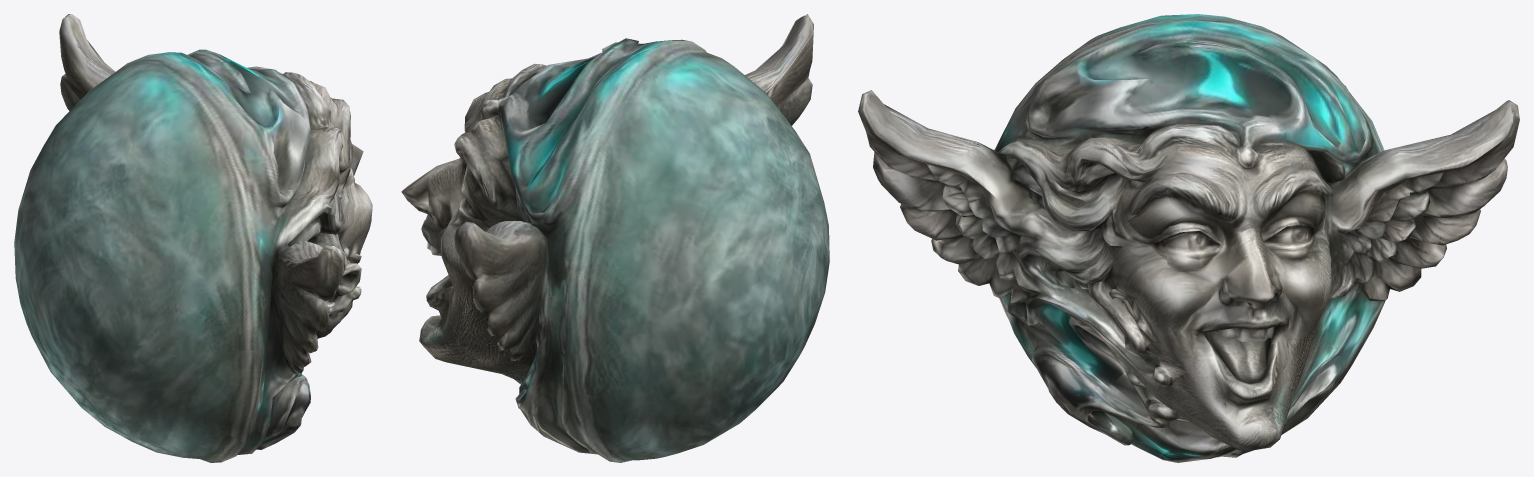
Rendered from Q-mercury.glb.
3 views of the same model, side by side, from view 1: azimuth 30°, elevation 25°; view 2: azimuth 150°, elevation 25°; view 3: azimuth 270°, elevation 25° (orthographic). The views are drawn at different scales.
Visible parts, largest first — view 1: tripo_node_17ca79b0-91c9-4856-be13-b9247469595f; view 2: tripo_node_17ca79b0-91c9-4856-be13-b9247469595f; view 3: tripo_node_17ca79b0-91c9-4856-be13-b9247469595f.
Part boxes in pixels (x1,y1,x2,y2): tripo_node_17ca79b0-91c9-4856-be13-b9247469595f: (14, 14, 372, 462); tripo_node_17ca79b0-91c9-4856-be13-b9247469595f: (401, 14, 829, 462); tripo_node_17ca79b0-91c9-4856-be13-b9247469595f: (858, 14, 1519, 462).
Bounding box in the file's own units: 0.658 × 0.6847 × 0.9799.
Materials: 1 (1 with a texture image).
